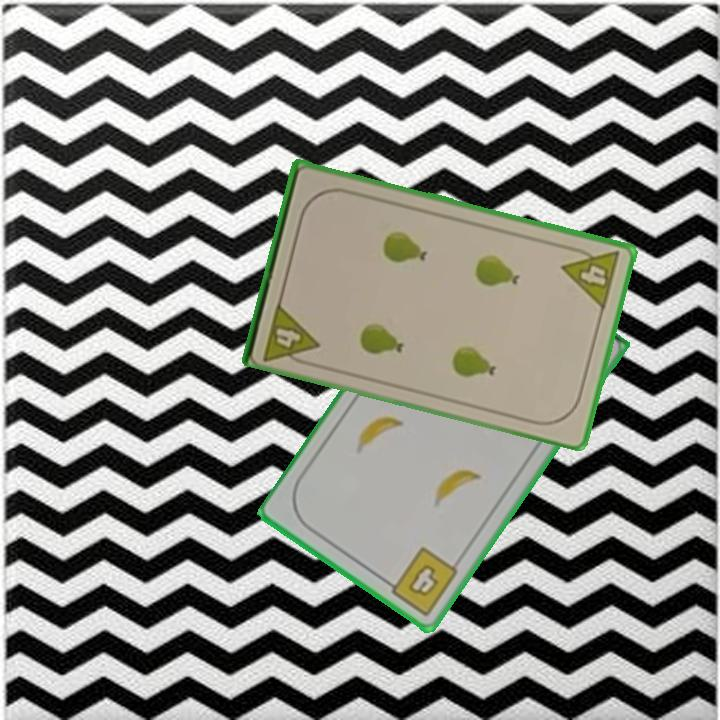4b: (380, 543, 461, 620)
4p: (558, 241, 623, 312), (259, 298, 322, 369)
